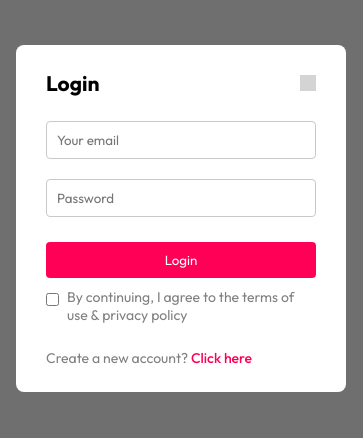
Scenario: Login Component - Redux Version › switches to Sign Up mode
Click the text "Click here": (222, 358) [191, 348, 252, 366]
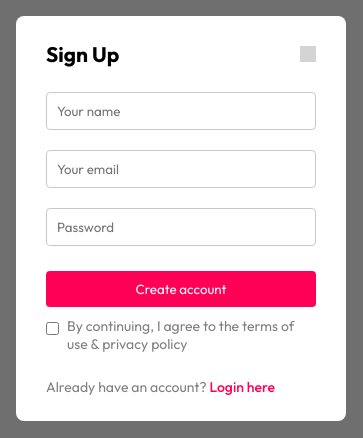
Expected: the heading "Sign Up" is shown, [46, 40, 119, 66]
Expected: the field with placeholder "Your name" is shown, [46, 92, 316, 130]
